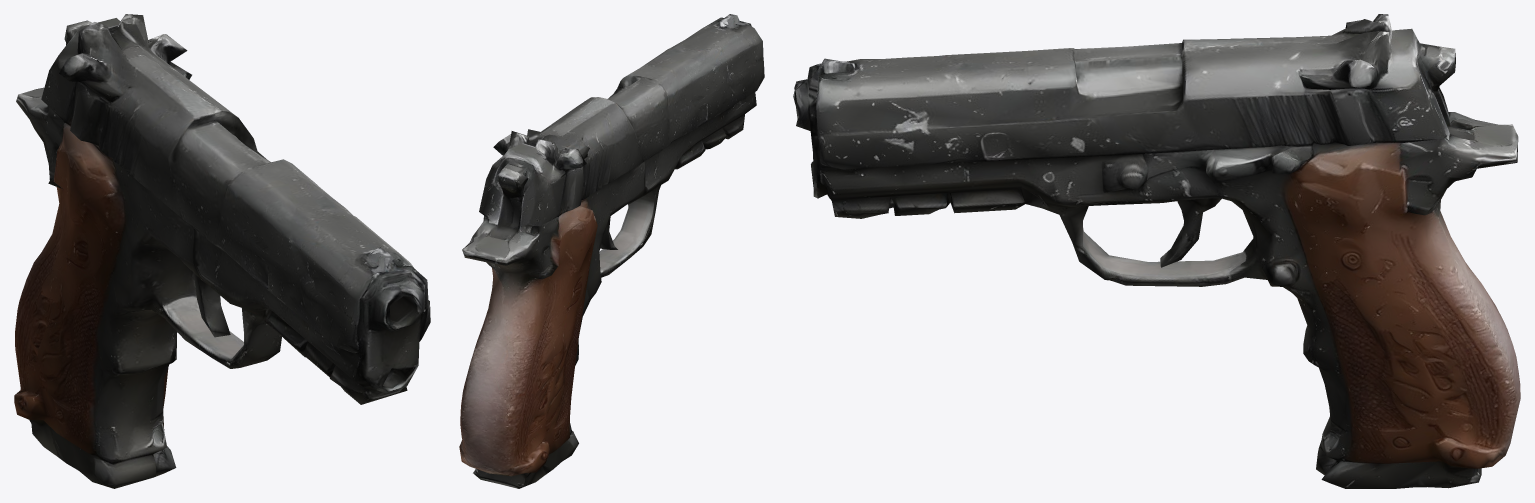
File: w_pistol.glb
3 renders of one model, left to right at view 1: azimuth 30°, elevation 25°; view 2: azimuth 150°, elevation 25°; view 3: azimuth 270°, elevation 25°, orthographic. The views are drawn at different scales.
Parts seen in each view (by area): view 1: tripo_node_21cff8f3-faa9-4bca-83a9-c0c8a641bf47; view 2: tripo_node_21cff8f3-faa9-4bca-83a9-c0c8a641bf47; view 3: tripo_node_21cff8f3-faa9-4bca-83a9-c0c8a641bf47.
Boxes of the visible parts, left/top/right/bottom form: tripo_node_21cff8f3-faa9-4bca-83a9-c0c8a641bf47: left=14, top=14, right=430, bottom=488; tripo_node_21cff8f3-faa9-4bca-83a9-c0c8a641bf47: left=459, top=14, right=764, bottom=488; tripo_node_21cff8f3-faa9-4bca-83a9-c0c8a641bf47: left=793, top=14, right=1520, bottom=488.
Size of the model in its own units: 0.1933 by 0.6779 by 1.
Materials: 1 (1 with a texture image).
